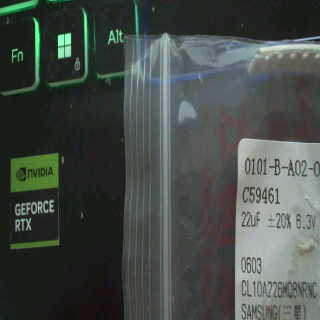22uF: (238, 210, 264, 229)
